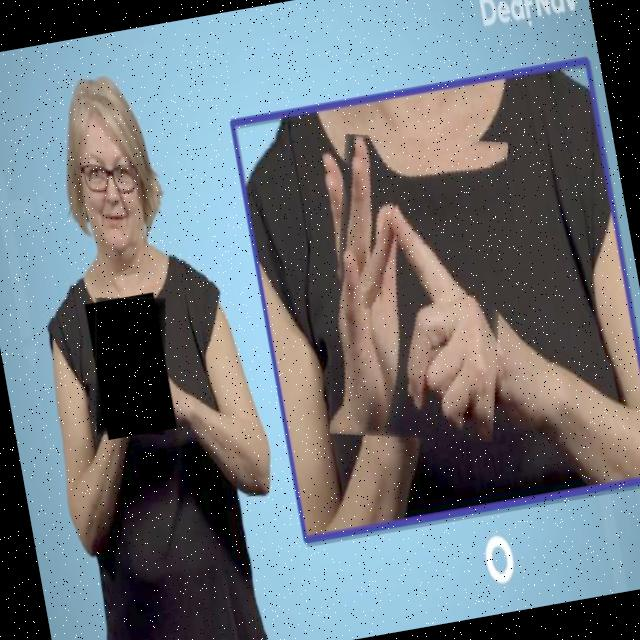O: (297, 117, 543, 460), (80, 289, 184, 443)
